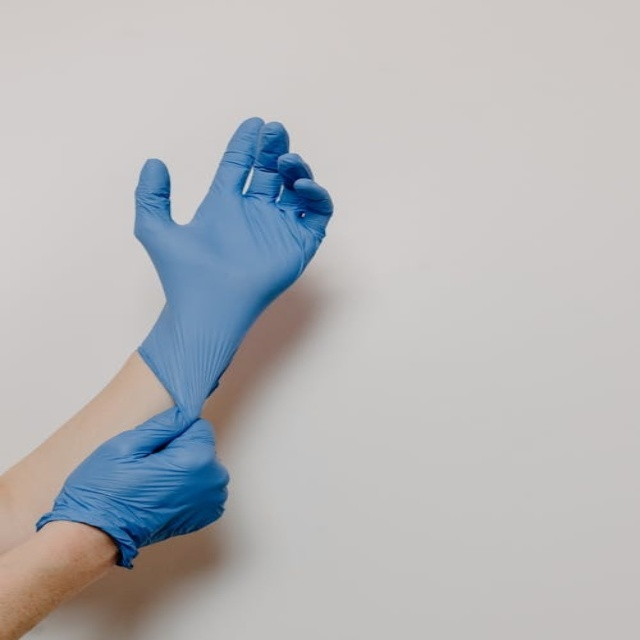Guantes: (127, 113, 329, 423), (36, 402, 231, 570)
